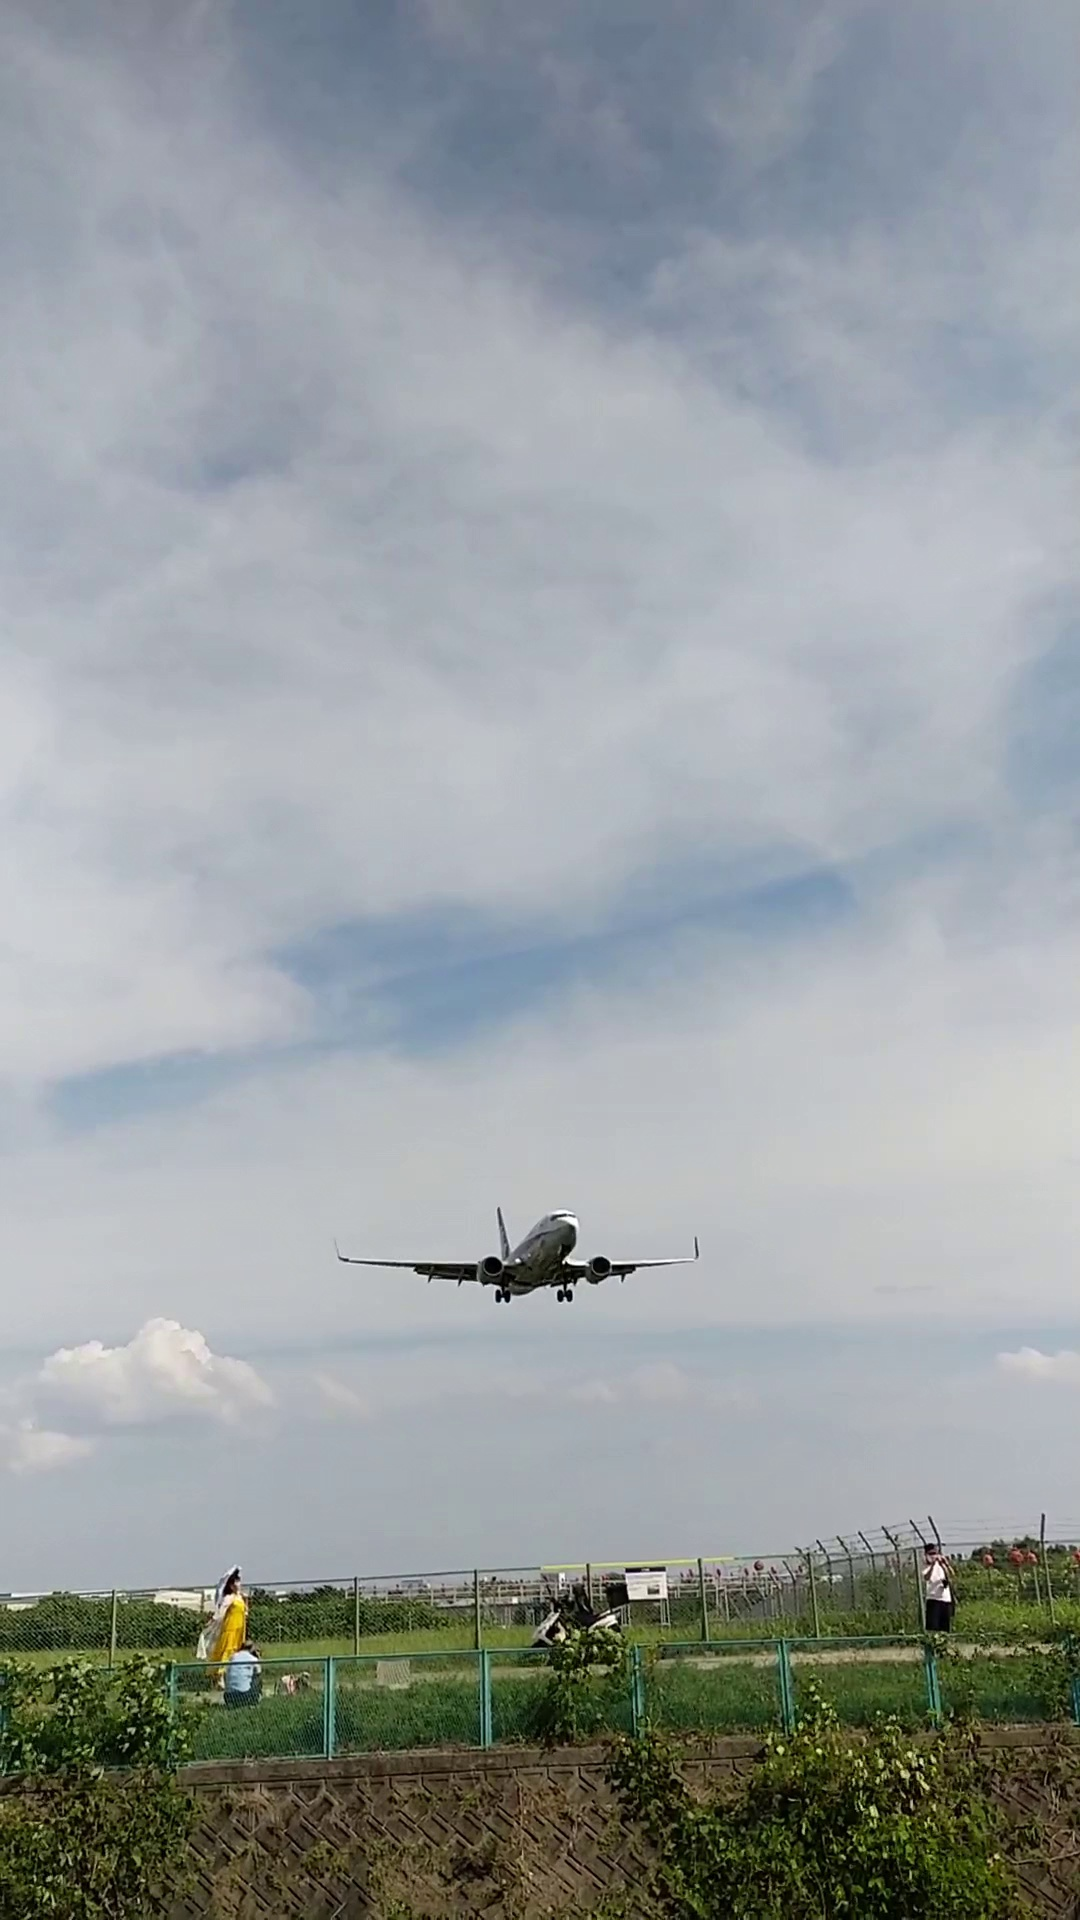plane: (334, 1205, 700, 1302)
